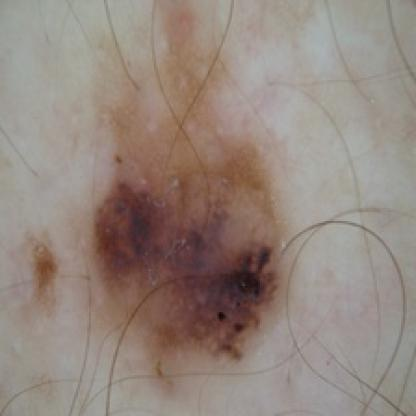malignant: (91, 126, 284, 355)
